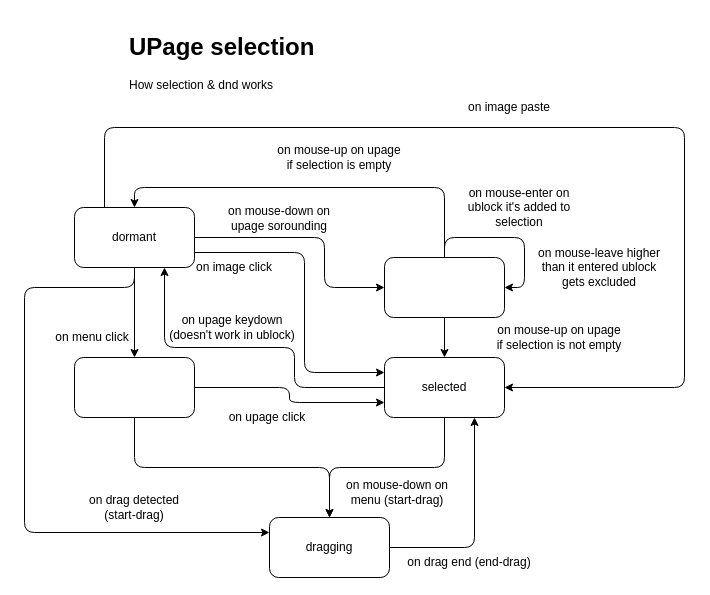
The diagram is 710 pixels wide and 595 high, and some of its shapes have lost their labels. The centre of each missing label's shape, as x and y in pixels:
"active" belongs at point 444,287.
"selected-by-click" belongs at point 134,387.
